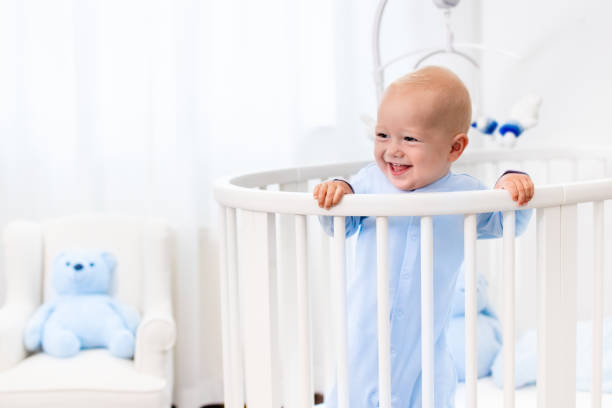baby: (313, 66, 485, 207)
crib: (215, 148, 611, 407)
